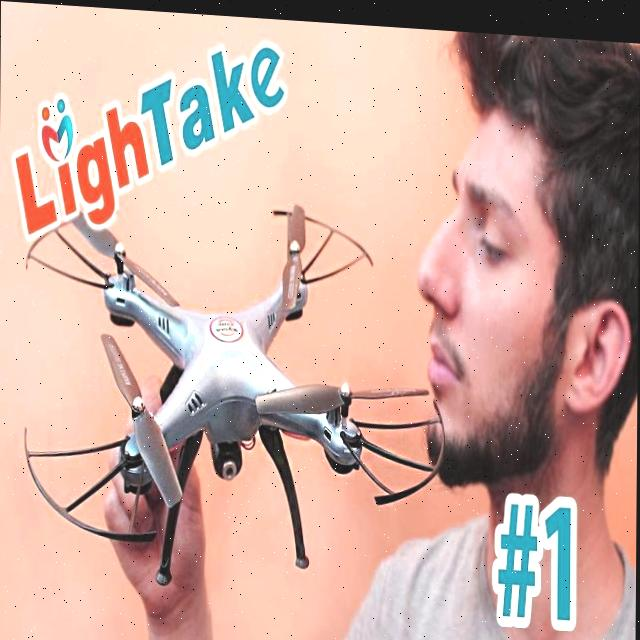drone: (19, 179, 457, 574)
